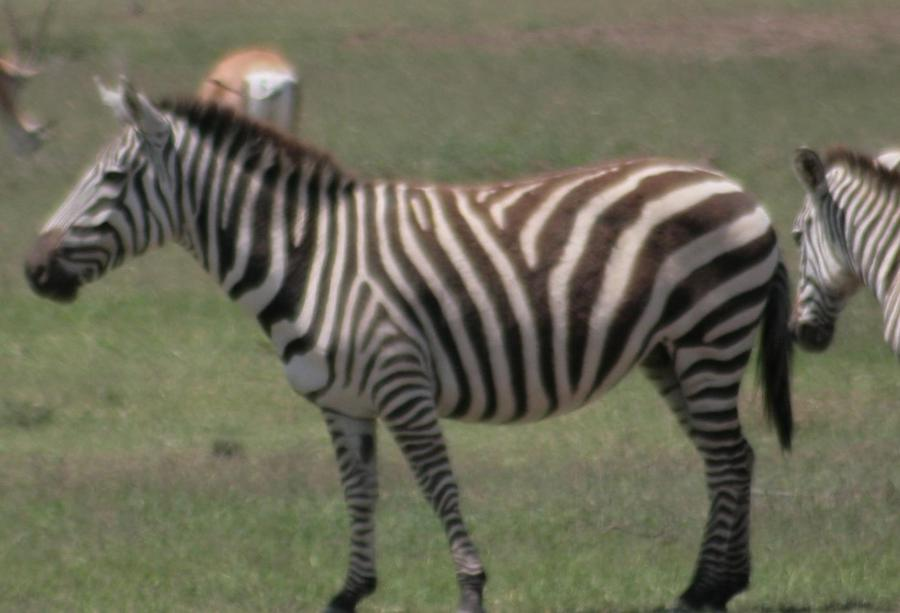zebra_plains: (247, 127, 821, 428)
